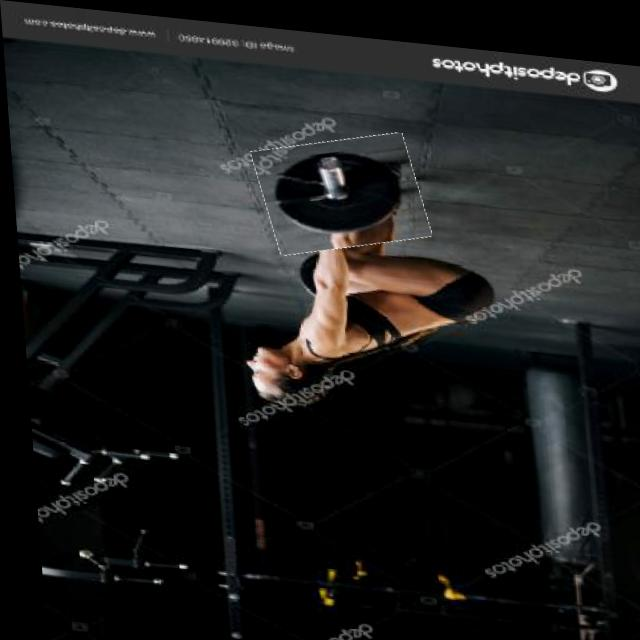barbell: (252, 121, 426, 254)
